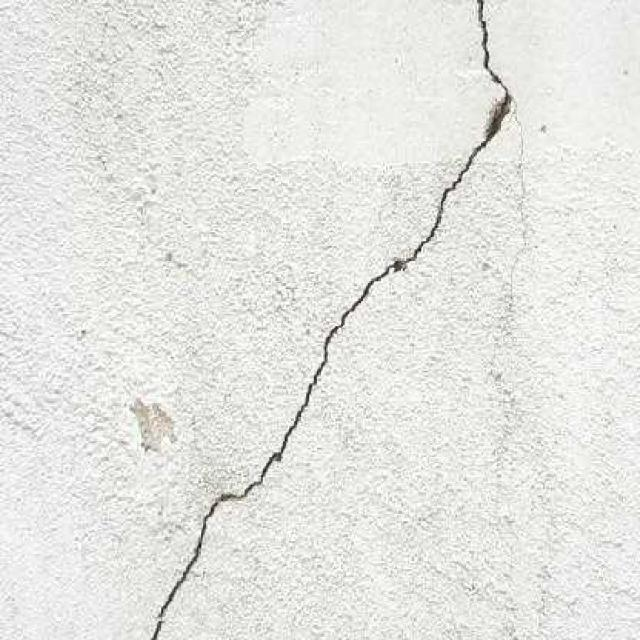D00: (154, 0, 514, 640)
